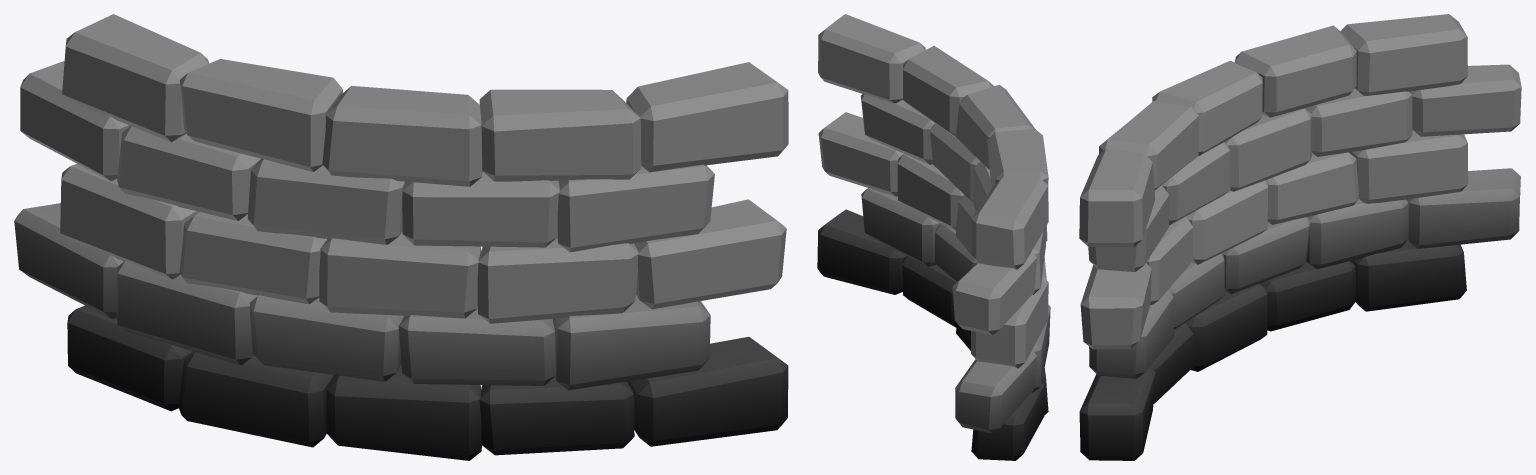
The model's file is BrickWall2x1_01_T90_Mid.fbx.
3 renders of one model, left to right at view 1: azimuth 30°, elevation 25°; view 2: azimuth 150°, elevation 25°; view 3: azimuth 270°, elevation 25°, orthographic. The views are drawn at different scales.
Visible parts, largest first — view 1: BrickWall2x1_01_T90_Mid; view 2: BrickWall2x1_01_T90_Mid; view 3: BrickWall2x1_01_T90_Mid.
Boxes of the visible parts, x1,y1,x2,y2 form: BrickWall2x1_01_T90_Mid: (14,14,788,460); BrickWall2x1_01_T90_Mid: (817,14,1050,460); BrickWall2x1_01_T90_Mid: (1079,14,1521,460).
Size of the model in its own units: 153 by 101 by 150.
